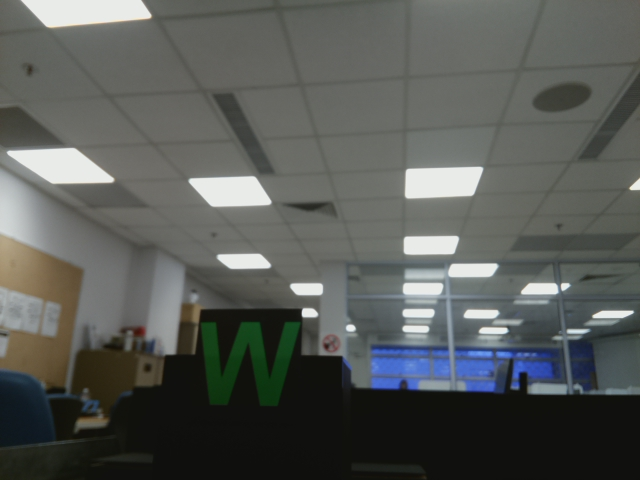w: (197, 319, 305, 414)
